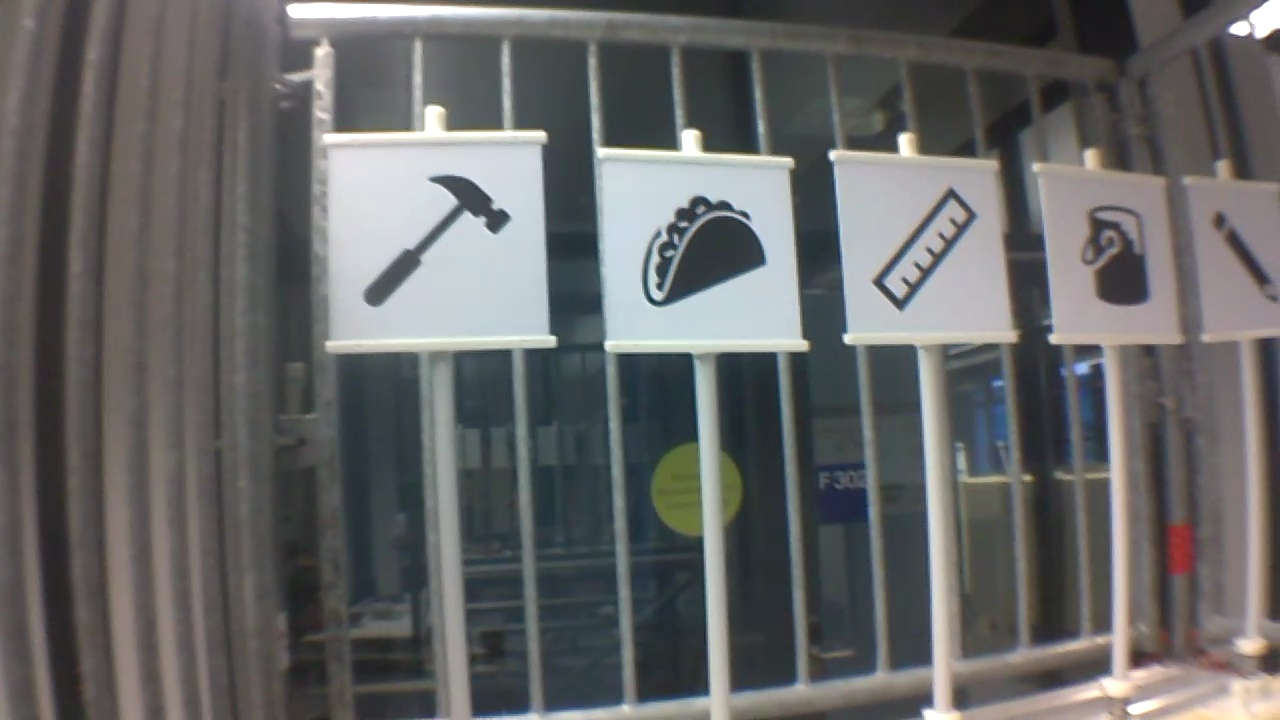bucket: (1067, 202, 1158, 311)
hammer: (356, 170, 517, 311)
pencil: (1204, 205, 1280, 313)
ruler: (868, 181, 983, 315)
taco: (636, 189, 775, 311)
